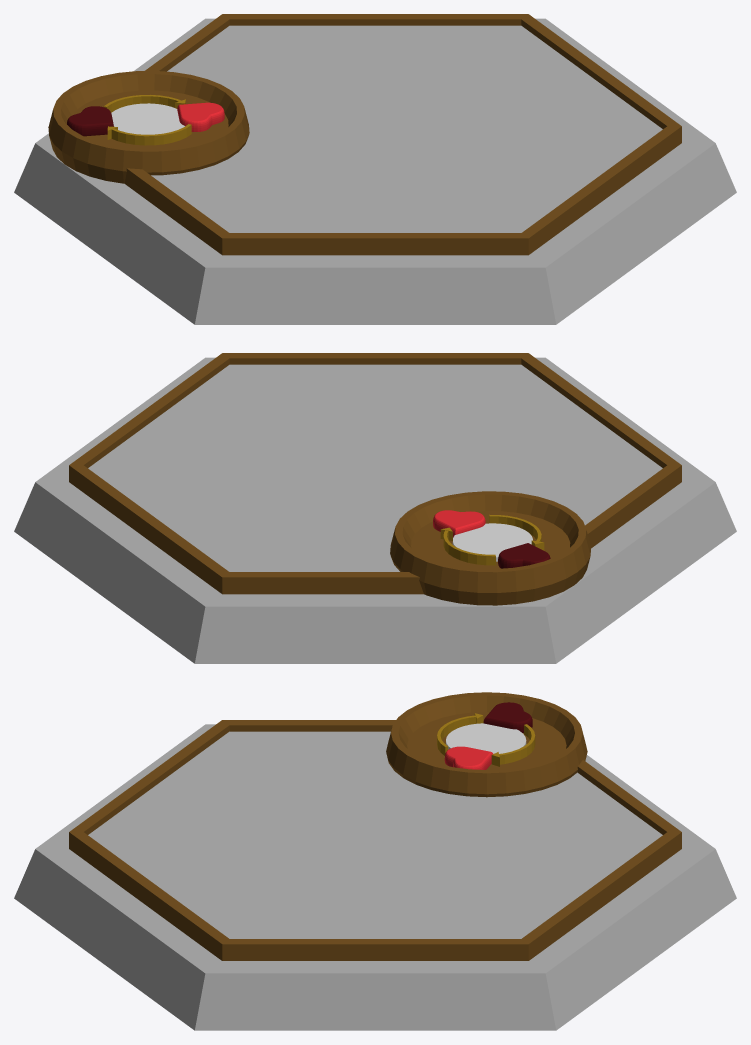
File: nasib board.fbx
The picture shows the model from 3 angles, top to bottom: view 1: azimuth 30°, elevation 25°; view 2: azimuth 150°, elevation 25°; view 3: azimuth 270°, elevation 25°; orthographic projection.
Visible parts, largest first — view 1: nasib board; view 2: nasib board; view 3: nasib board.
Part boxes in pixels (x1,y1,x2,y2): nasib board: (14, 14, 736, 324); nasib board: (14, 353, 736, 663); nasib board: (14, 692, 736, 1030).
Size of the model in its own units: 315 by 45.72 by 364.
